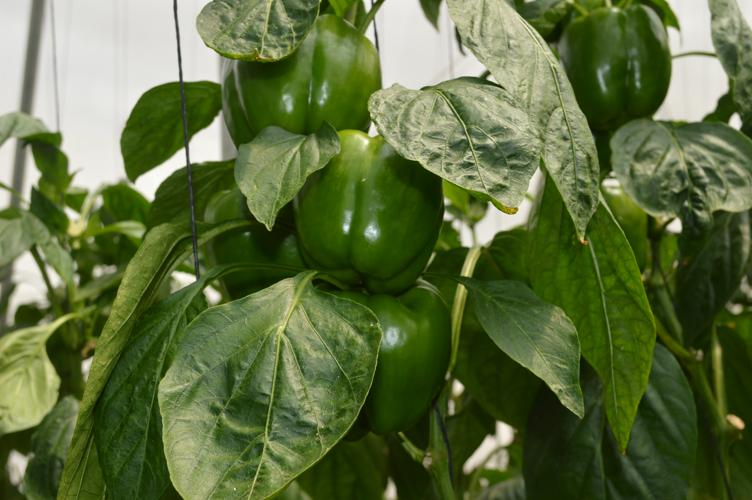BellPepper: (285, 131, 445, 294), (204, 14, 379, 141), (316, 278, 448, 434), (551, 7, 670, 136), (194, 194, 296, 296)
